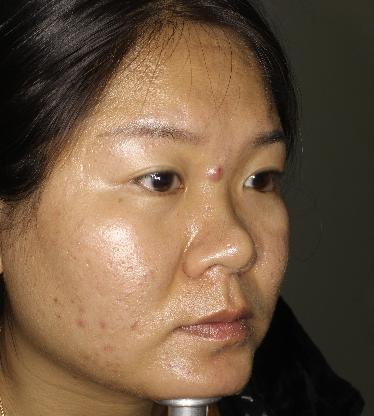Nodules: (204, 159, 226, 190)
acne scar: (74, 299, 90, 317), (128, 318, 141, 335), (72, 316, 86, 331), (97, 317, 109, 334), (46, 293, 60, 303)
